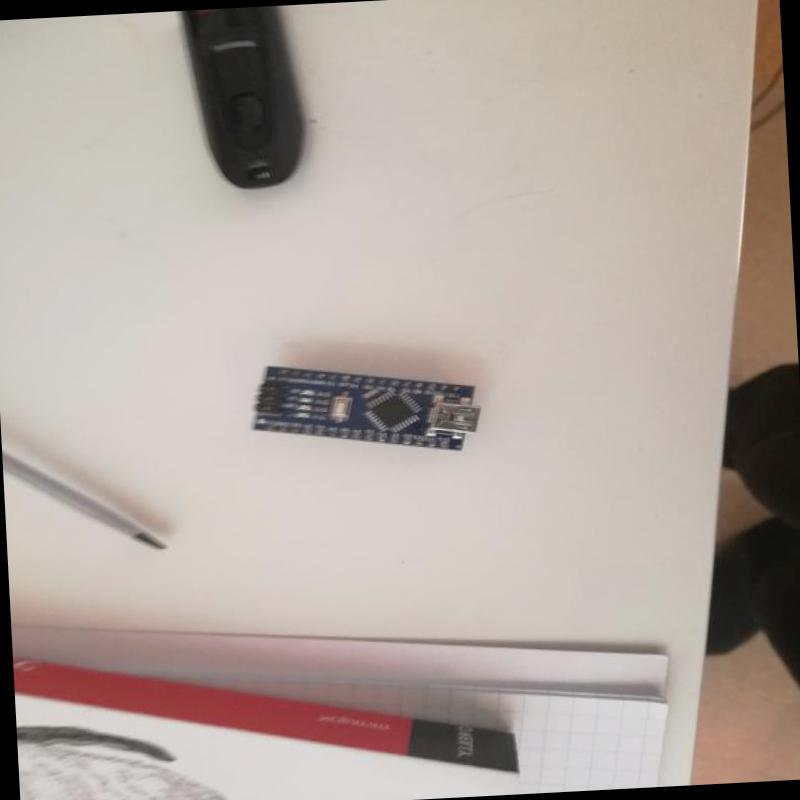Arduino_Nano: (244, 349, 488, 464)
